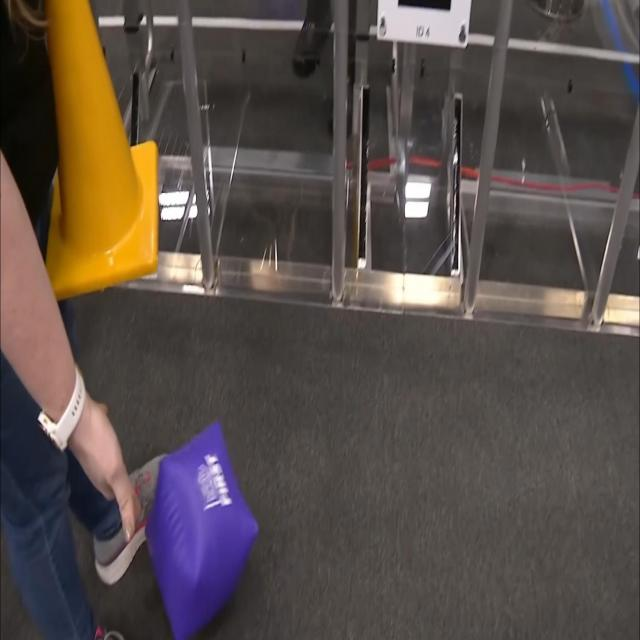frc_cone: (33, 0, 160, 298)
frc_cube: (144, 421, 259, 636)
